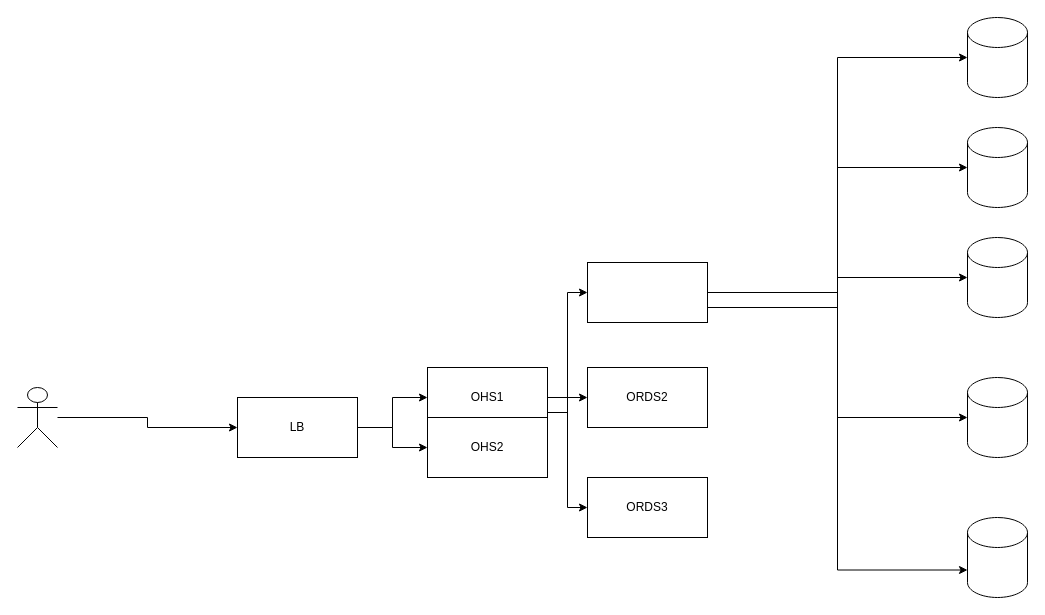
Image size: 1045x615. Some labels were removed from this diagram. The centre of each missing label's shape, as x and y in pixels:
Actor: [37,417]
ORDS1: [647,292]
